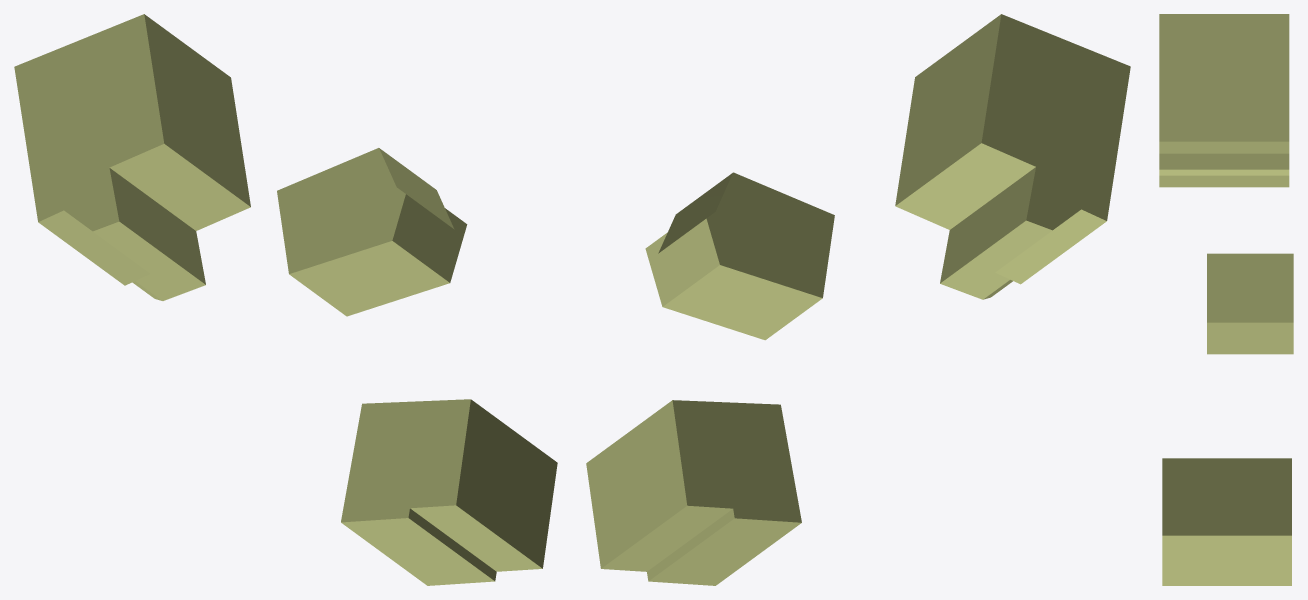
3 renders of one model, left to right at view 1: azimuth 30°, elevation 25°; view 2: azimuth 150°, elevation 25°; view 3: azimuth 270°, elevation 25°, orthographic. The views are drawn at different scales.
Parts seen in each view (by area): view 1: 0_1_0_0_2_0_1_1_3; view 2: 0_1_0_0_2_0_1_1_3; view 3: 0_1_0_0_2_0_1_1_3.
Boxes of the visible parts, x1,y1,x2,y2 form: 0_1_0_0_2_0_1_1_3: (14,14,557,585); 0_1_0_0_2_0_1_1_3: (586,14,1130,585); 0_1_0_0_2_0_1_1_3: (1159,14,1293,585).
Bounding box in the file's own units: 27.46 × 32.63 × 9.3.
